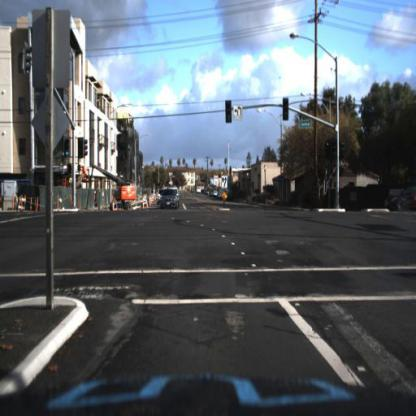car: (162, 191, 180, 208), (195, 182, 203, 196)
trafficLight-GreenLeft: (226, 98, 236, 124), (65, 141, 71, 160)
trafficLight-Red: (282, 99, 290, 126), (330, 135, 338, 158), (227, 101, 232, 122)
